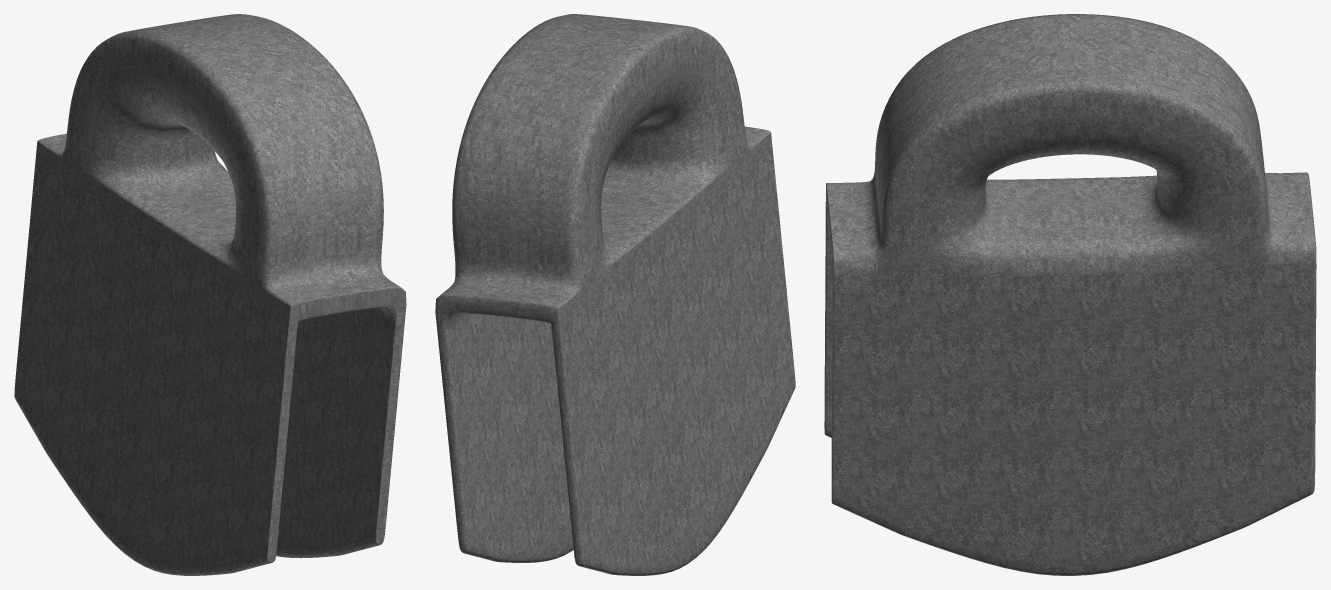
File: original-29.obj
3 renders of one model, left to right at view 1: azimuth 30°, elevation 25°; view 2: azimuth 150°, elevation 25°; view 3: azimuth 270°, elevation 25°, orthographic. The views are drawn at different scales.
Visible parts, largest first — view 1: #ID227; view 2: #ID227; view 3: #ID227.
Part boxes in pixels (box(x1,y1,x2,y2)): #ID227: box(14, 14, 406, 575); #ID227: box(435, 14, 795, 575); #ID227: box(824, 14, 1316, 575).
Bounding box in the file's own units: 0.062 × 0.1731 × 0.1458.
2 materials, 2 textured.
